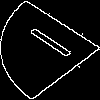I: (25, 25, 86, 66)
